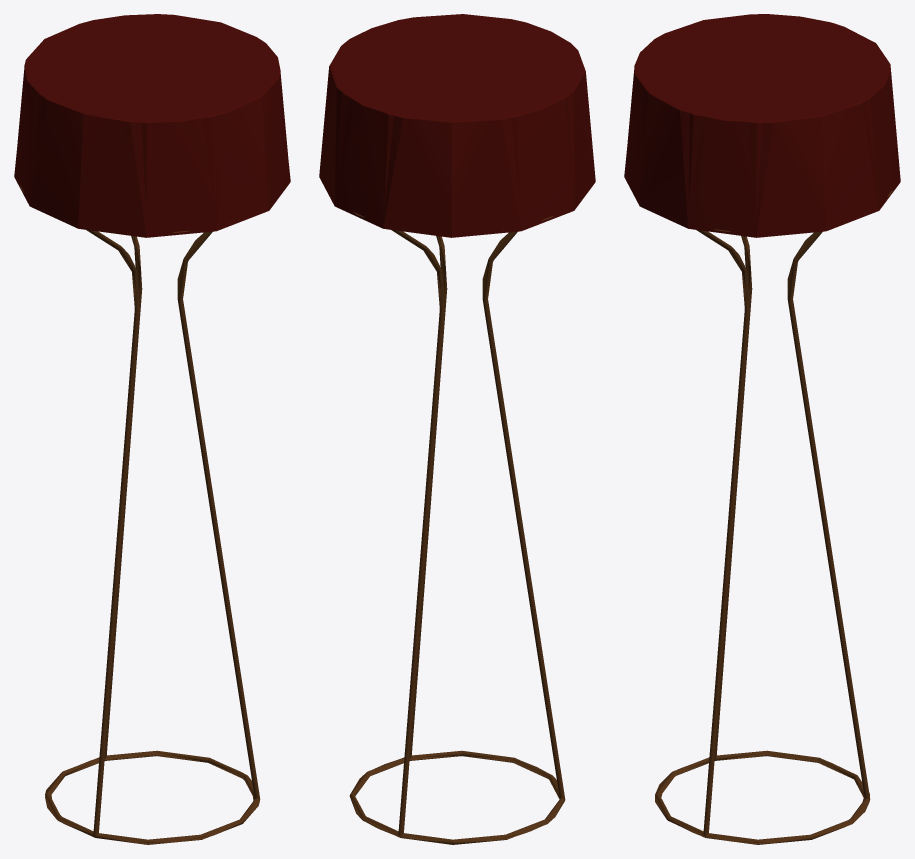
The model's file is uploads_files_2236010_lamp.FBX.
The picture shows the model from 3 angles, left to right: view 1: azimuth 30°, elevation 25°; view 2: azimuth 150°, elevation 25°; view 3: azimuth 270°, elevation 25°; orthographic projection.
Parts seen in each view (by area): view 1: 1; view 2: 1; view 3: 1.
Boxes of the visible parts, left/top/right/bottom form: 1: left=14, top=14, right=290, bottom=844; 1: left=319, top=14, right=595, bottom=844; 1: left=624, top=14, right=900, bottom=844.
Size of the model in its own units: 602 by 1758 by 602.
